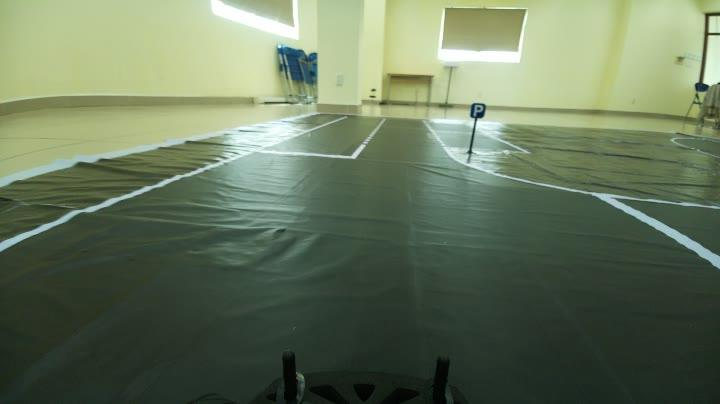parking: (463, 95, 492, 125)
